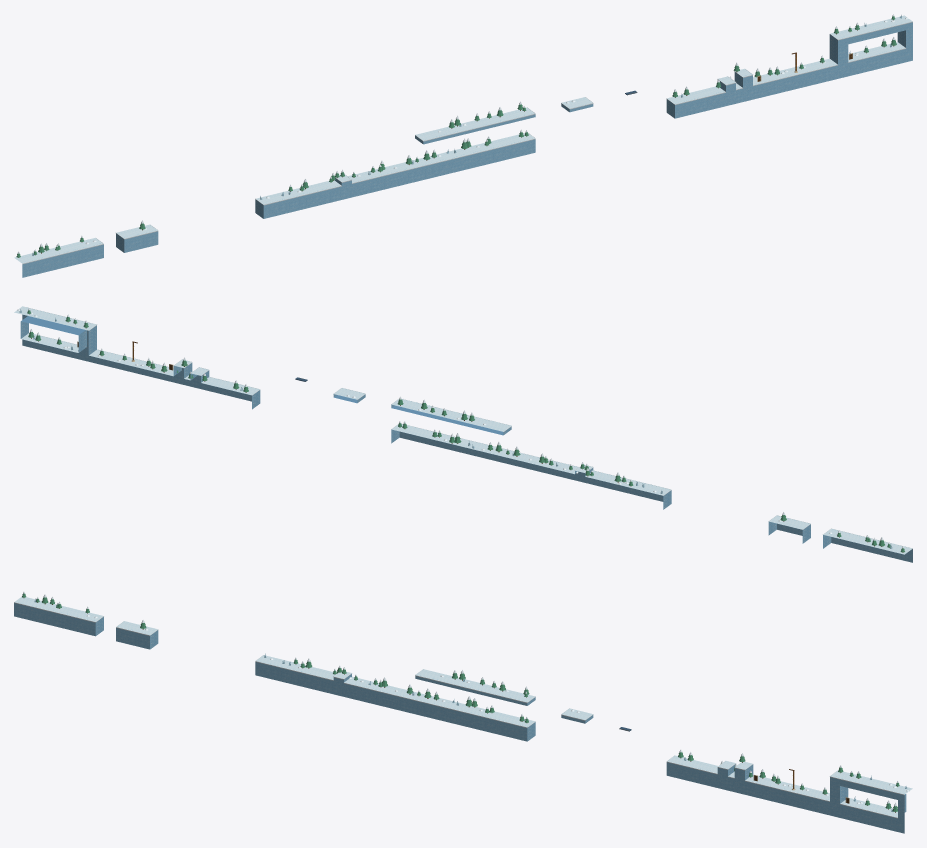
File: level-5.glb
3 views of the same model, one above another, from view 1: azimuth 30°, elevation 25°; view 2: azimuth 150°, elevation 25°; view 3: azimuth 330°, elevation 25° (orthographic).
Visible parts, largest first — view 1: Sector_17_0, Sector_9_0, Sector_18_0, Sector_8_0, Sector_10_0, Sector_15_0, Sector_14_0, Sector_6_0, Sector_0_0, Sector_5_0, Sector_16_0, Sector_7_0 (+2 smaller); view 2: Sector_17_0, Sector_9_0, Sector_10_0, Sector_8_0, Sector_18_0, Sector_15_0, Sector_14_0, Sector_6_0, Sector_0_0, Sector_16_0, Sector_5_0, Sector_7_0 (+2 smaller); view 3: Sector_17_0, Sector_9_0, Sector_10_0, Sector_8_0, Sector_18_0, Sector_15_0, Sector_6_0, Sector_14_0, Sector_0_0, Sector_7_0, Sector_16_0, Sector_5_0 (+2 smaller).
Part boxes in pixels (bbox=[...]): Sector_17_0: bbox=[824, 22, 878, 80]; Sector_9_0: bbox=[442, 111, 497, 173]; Sector_18_0: bbox=[871, 14, 912, 68]; Sector_8_0: bbox=[395, 128, 450, 184]; Sector_10_0: bbox=[491, 101, 535, 161]; Sector_15_0: bbox=[730, 62, 783, 103]; Sector_14_0: bbox=[680, 76, 736, 114]; Sector_6_0: bbox=[299, 170, 355, 207]; Sector_0_0: bbox=[14, 243, 69, 277]; Sector_5_0: bbox=[255, 184, 307, 218]; Sector_16_0: bbox=[779, 52, 831, 91]; Sector_7_0: bbox=[348, 160, 402, 196]; Sector_17_0: bbox=[48, 314, 103, 365]; Sector_9_0: bbox=[429, 405, 484, 458]; Sector_10_0: bbox=[391, 396, 436, 446]; Sector_8_0: bbox=[476, 419, 531, 469]; Sector_18_0: bbox=[14, 306, 56, 353]; Sector_15_0: bbox=[143, 357, 198, 388]; Sector_14_0: bbox=[190, 367, 246, 400]; Sector_6_0: bbox=[571, 462, 627, 492]; Sector_0_0: bbox=[857, 535, 912, 562]; Sector_16_0: bbox=[96, 341, 151, 376]; Sector_5_0: bbox=[619, 475, 671, 509]; Sector_7_0: bbox=[524, 453, 579, 481]; Sector_17_0: bbox=[823, 765, 878, 825]; Sector_9_0: bbox=[442, 670, 497, 732]; Sector_10_0: bbox=[490, 681, 535, 741]; Sector_8_0: bbox=[394, 669, 450, 720]; Sector_18_0: bbox=[870, 780, 912, 833]; Sector_15_0: bbox=[728, 753, 783, 801]; Sector_6_0: bbox=[299, 658, 354, 697]; Sector_14_0: bbox=[680, 752, 736, 790]; Sector_0_0: bbox=[14, 591, 69, 627]; Sector_7_0: bbox=[347, 674, 402, 709]; Sector_16_0: bbox=[775, 769, 829, 813]; Sector_5_0: bbox=[255, 653, 305, 685].
Size of the model in its own units: 262 by 13.97 by 4.64.
1 material, 1 textured.
